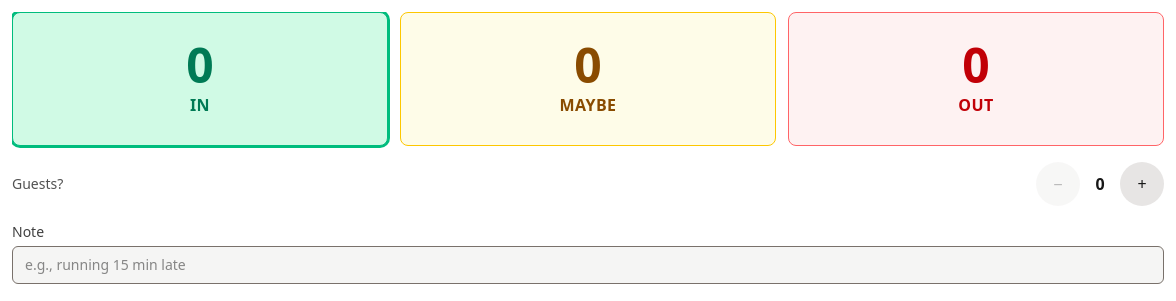
Test: RsvpControls › shows 'Saved ✓' after the note is saved on blur
This screenshot has width=1176, height=301.
Click the field labelled "Note" at (588, 265), box [12,246,1164,284]
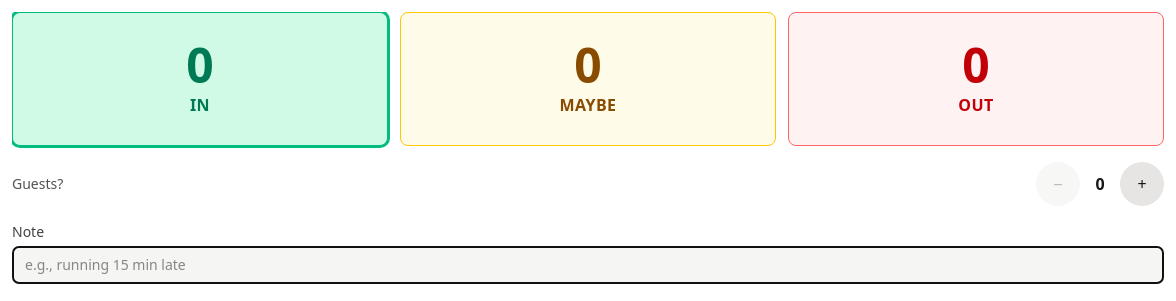
Type keys "hello"
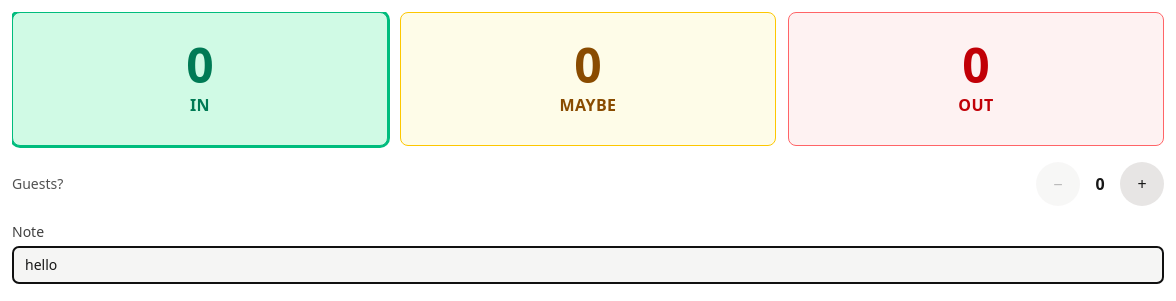
Press Tab
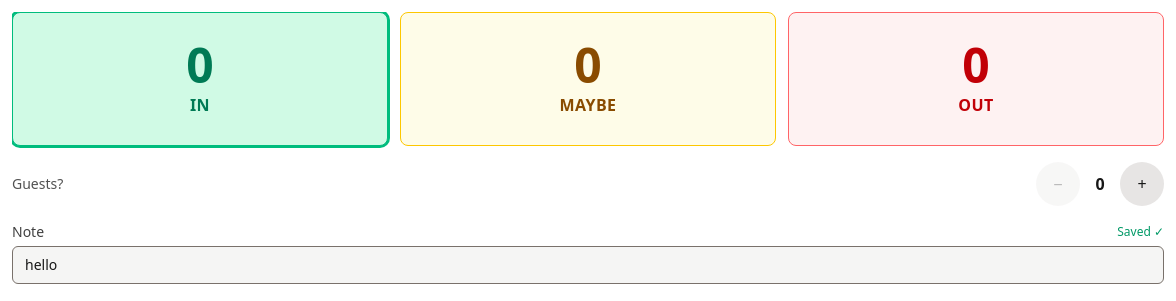
Check: the text "Saved ✓" is shown, box [1117,223,1164,240]
